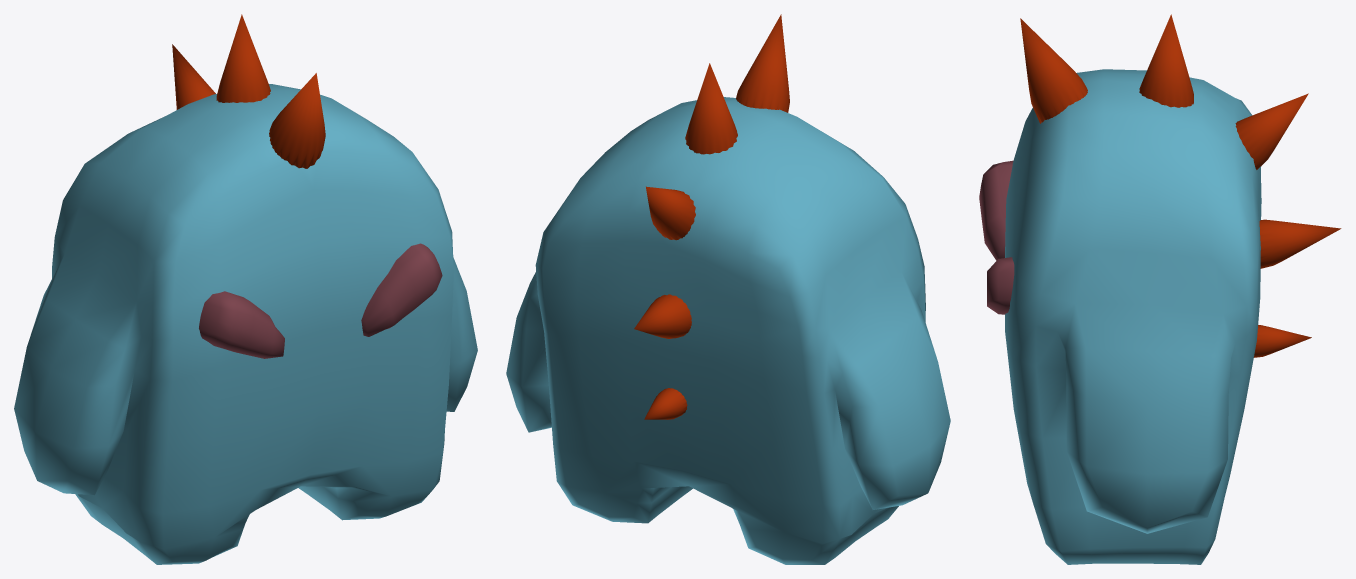
The model's file is towerdeffense_enemy_mellan_farg.fbx.
3 renders of one model, left to right at view 1: azimuth 30°, elevation 25°; view 2: azimuth 150°, elevation 25°; view 3: azimuth 270°, elevation 25°, orthographic. The views are drawn at different scales.
Parts seen in each view (by area): view 1: polySurface7; view 2: polySurface7; view 3: polySurface7.
Part boxes in pixels (left/top/right/bottom): polySurface7: left=14, top=14, right=477, bottom=564; polySurface7: left=506, top=14, right=950, bottom=564; polySurface7: left=979, top=14, right=1341, bottom=564.
Size of the model in its own units: 2.31 by 2.58 by 1.7.
